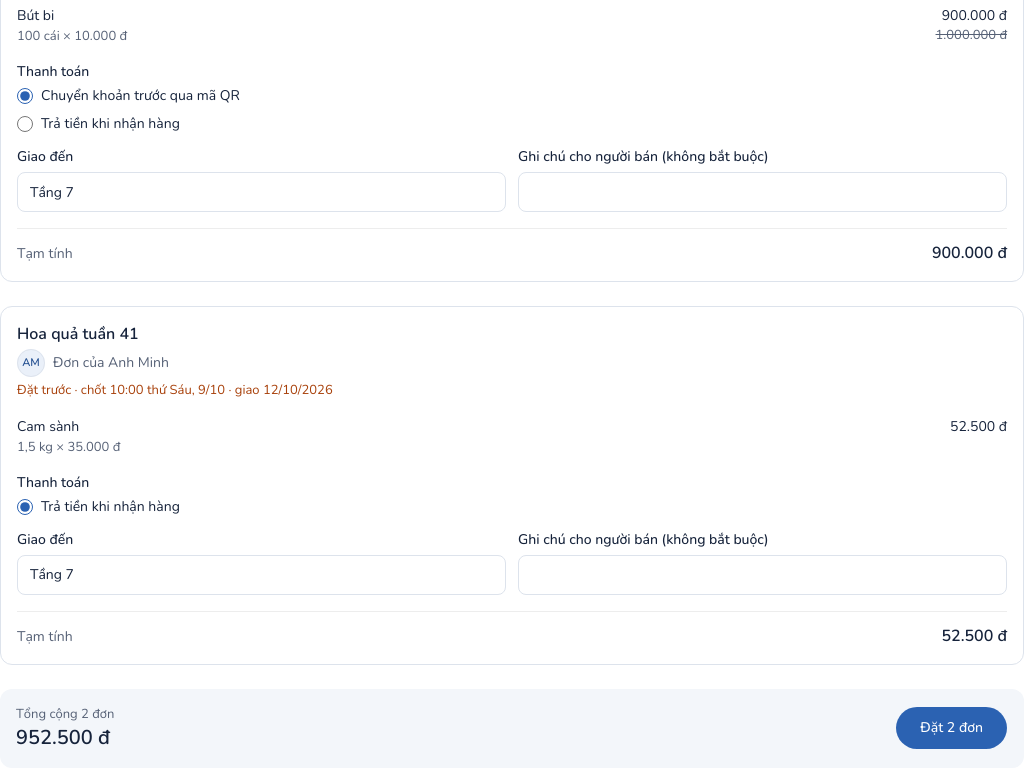
Test: CheckoutPage › points to the existing order of a pre-order round
(page scrolled)
Click the button "Đặt 2 đơn": click(952, 728) [895,706,1008,750]
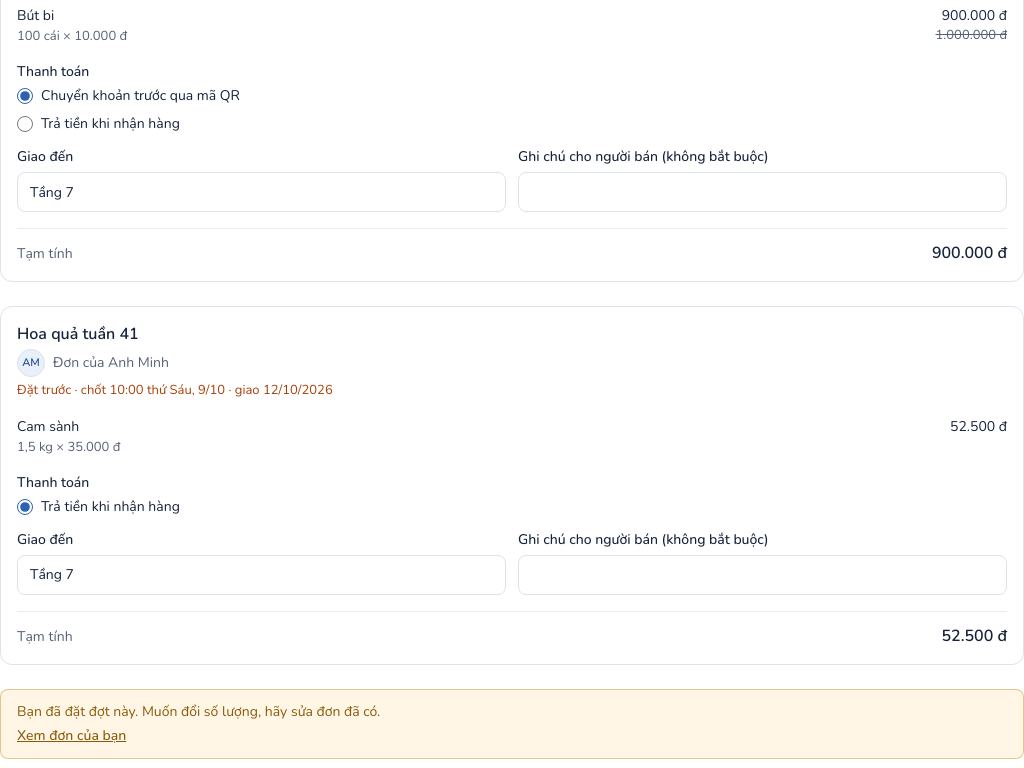
Expected: the text "Bạn đã đặt đợt này. Muốn đổi số lượng, hãy sửa đơn đã có." is shown, [17,702,380,720]
